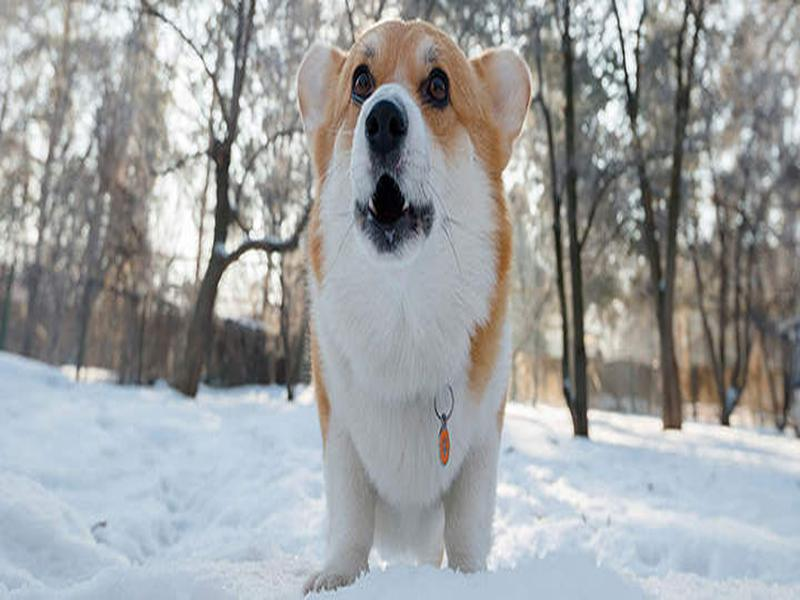corgi: (295, 17, 538, 255)
